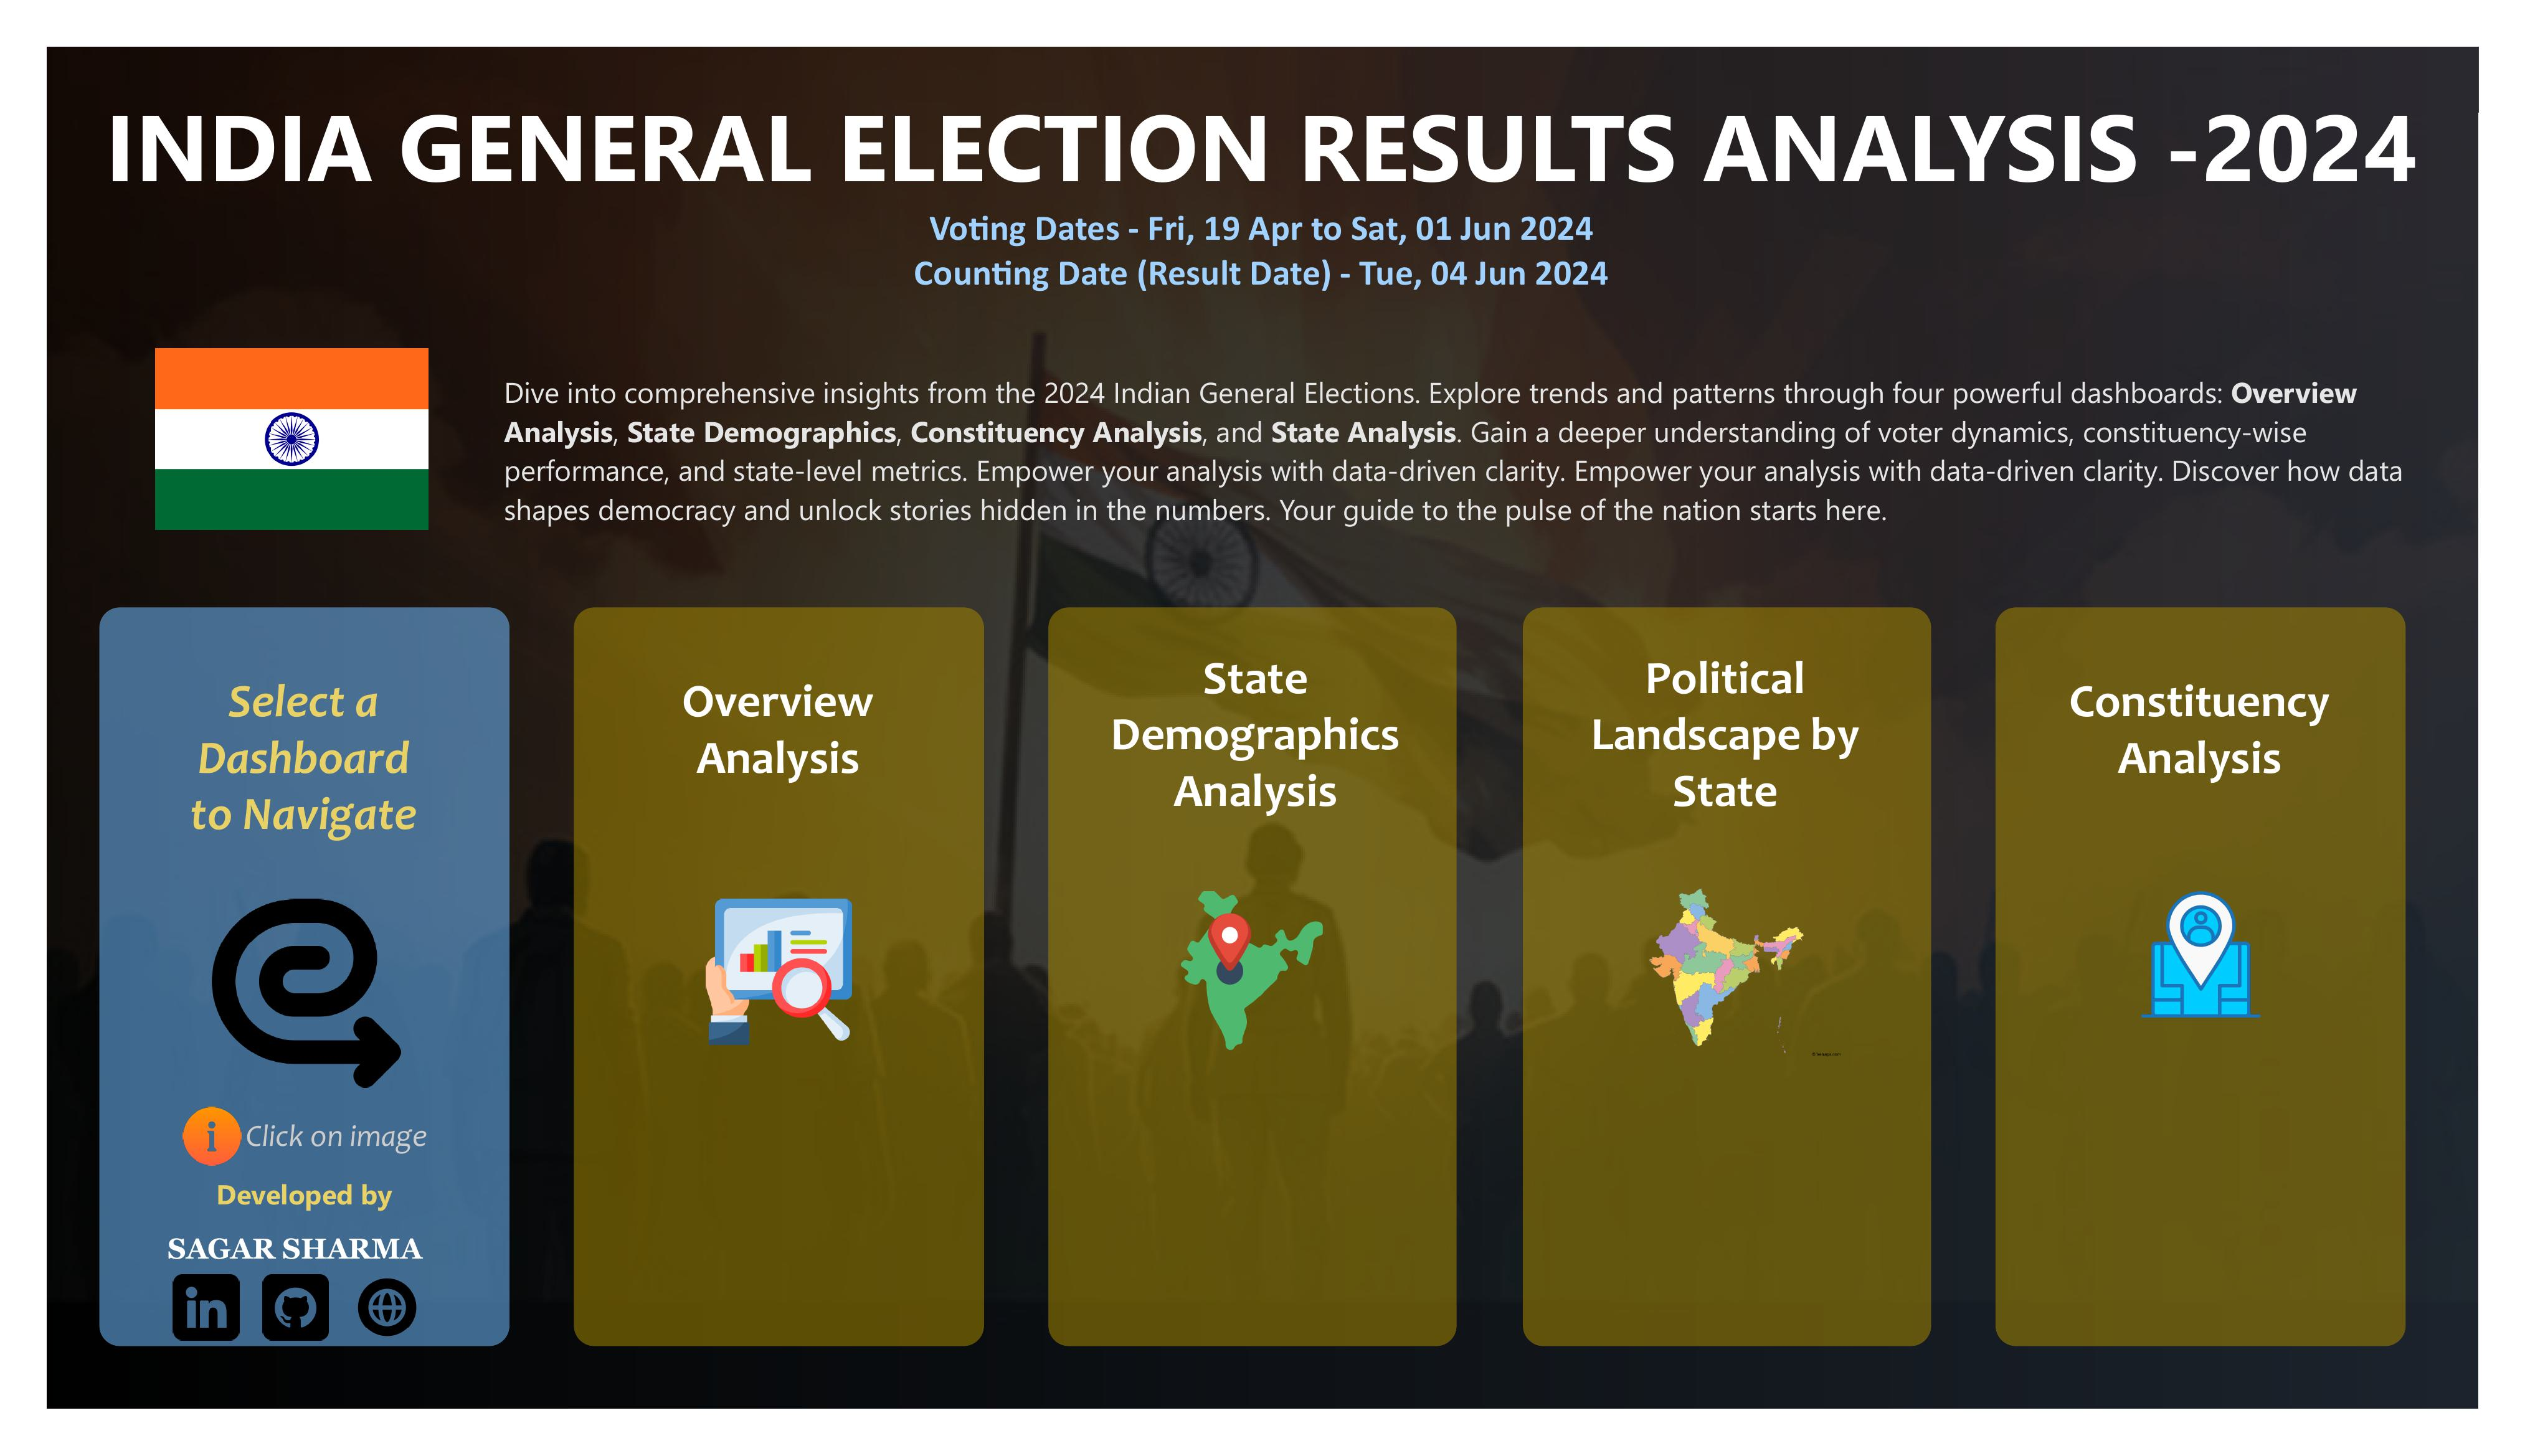

This screenshot's page, from the dashboard's own definition file:
{"tool":"powerbi","page":{"name":"Landing Page","canvas":[1280,720],"ordinal":0},"visuals":[{"type":"shape","box":[35.7,298.6,209.8,380],"z":0},{"type":"shape","box":[1032,299.9,210.4,380.5],"z":1000},{"type":"shape","box":[538.1,298.8,210,380],"z":2000},{"type":"shape","box":[286.8,298.8,210,380],"z":3000},{"type":"shape","box":[785.6,299.6,209.8,380],"z":4000},{"type":"textbox","box":[0,14,1280.2,137.2],"z":5000},{"type":"textbox","box":[302.6,331.6,178.2,96.4],"z":6000},{"type":"image","box":[350.3,466.3,83.9,75.6],"z":7000},{"type":"textbox","box":[551.3,331.6,184.5,96.4],"z":8000},{"type":"image","box":[600,462.2,88.1,83.9],"z":9000},{"type":"textbox","box":[1045.9,330.1,184,97],"z":10000},{"type":"image","box":[1105.1,461.2,65.5,65.5],"z":11000},{"type":"textbox","box":[797.5,323.2,184.7,106.8],"z":12000},{"type":"image","box":[836.2,446.6,118.1,107.8],"z":13000},{"type":"textbox","box":[51.8,333.7,178.2,111.9],"z":14000},{"type":"textbox","box":[96.5,571.3,121.8,29.3],"z":15000},{"type":"image","box":[80.8,571,31.1,29],"z":16000},{"type":"image","box":[72.6,461.6,136.1,96.4],"z":17000},{"type":"image","box":[51.8,161.7,154.4,101.6],"z":18000},{"type":"textbox","box":[230.1,161.7,1019.7,100.5],"z":19000},{"type":"textbox","box":[82.9,602.1,125.4,29],"z":20000},{"type":"textbox","box":[75.6,617.6,139.9,28],"z":21000},{"type":"image","box":[67.4,638.3,45.6,34.2],"z":22000},{"type":"textbox","box":[97.4,640.4,132.6,32.1],"z":23000}]}

Visuals, with their boxes in screenshot pixels (x1, y1, x2, y2), scaled from the page's 1280x720 canvas onto the 2525x1456 screenshot:
shape: (70,604,485,1373)
shape: (2036,607,2451,1376)
shape: (1061,604,1476,1373)
shape: (566,604,980,1373)
shape: (1550,606,1964,1374)
textbox: (0,28,2524,306)
textbox: (597,671,949,866)
image: (691,943,856,1096)
textbox: (1087,671,1451,866)
image: (1183,935,1357,1104)
textbox: (2063,668,2426,864)
image: (2180,933,2309,1065)
textbox: (1573,654,1938,869)
image: (1649,903,1882,1121)
textbox: (102,675,453,901)
textbox: (191,1155,430,1214)
image: (159,1155,220,1213)
image: (143,934,412,1128)
image: (102,327,407,532)
textbox: (454,327,2465,530)
textbox: (164,1217,411,1276)
textbox: (149,1249,425,1305)
image: (133,1291,223,1360)
textbox: (192,1295,453,1360)
